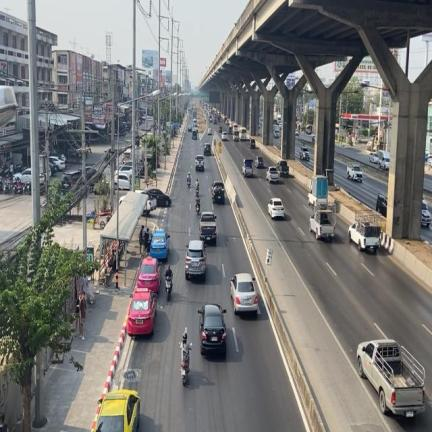car: (230, 273, 257, 313), (186, 240, 206, 279), (268, 198, 284, 219)
human: (140, 225, 144, 254), (144, 228, 149, 251)
motorbike: (180, 342, 192, 385), (165, 277, 171, 300), (13, 181, 22, 194), (3, 179, 10, 194), (196, 204, 199, 214), (195, 189, 198, 196), (187, 180, 190, 187)
pickup: (357, 339, 424, 416), (348, 211, 380, 251), (309, 202, 335, 241), (200, 211, 216, 242), (212, 181, 223, 203), (277, 160, 288, 178), (266, 167, 279, 182)
taxi: (95, 389, 140, 431), (126, 288, 156, 335), (136, 256, 160, 292), (150, 230, 169, 259)
truck: (308, 176, 327, 205), (242, 160, 252, 177)
